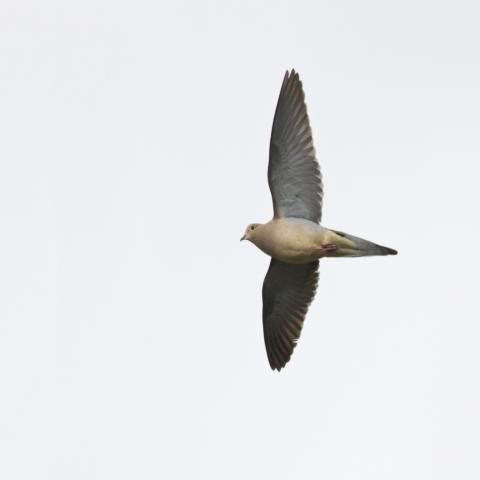bird: (237, 66, 398, 372)
